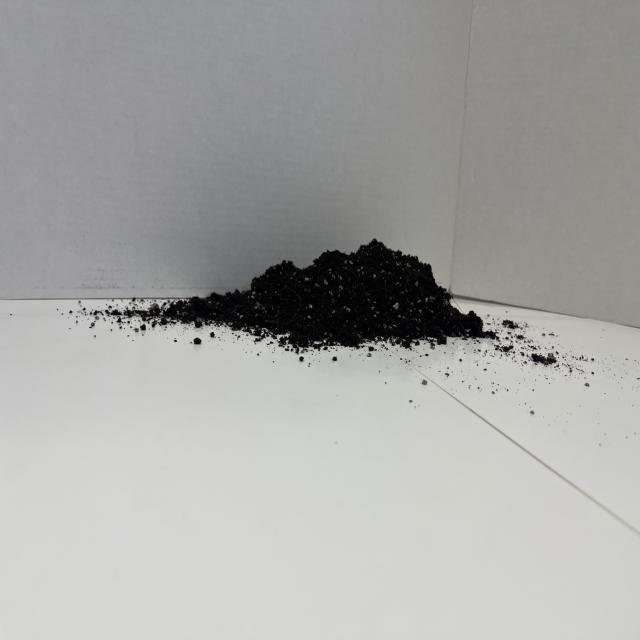soil: (204, 192, 508, 356)
